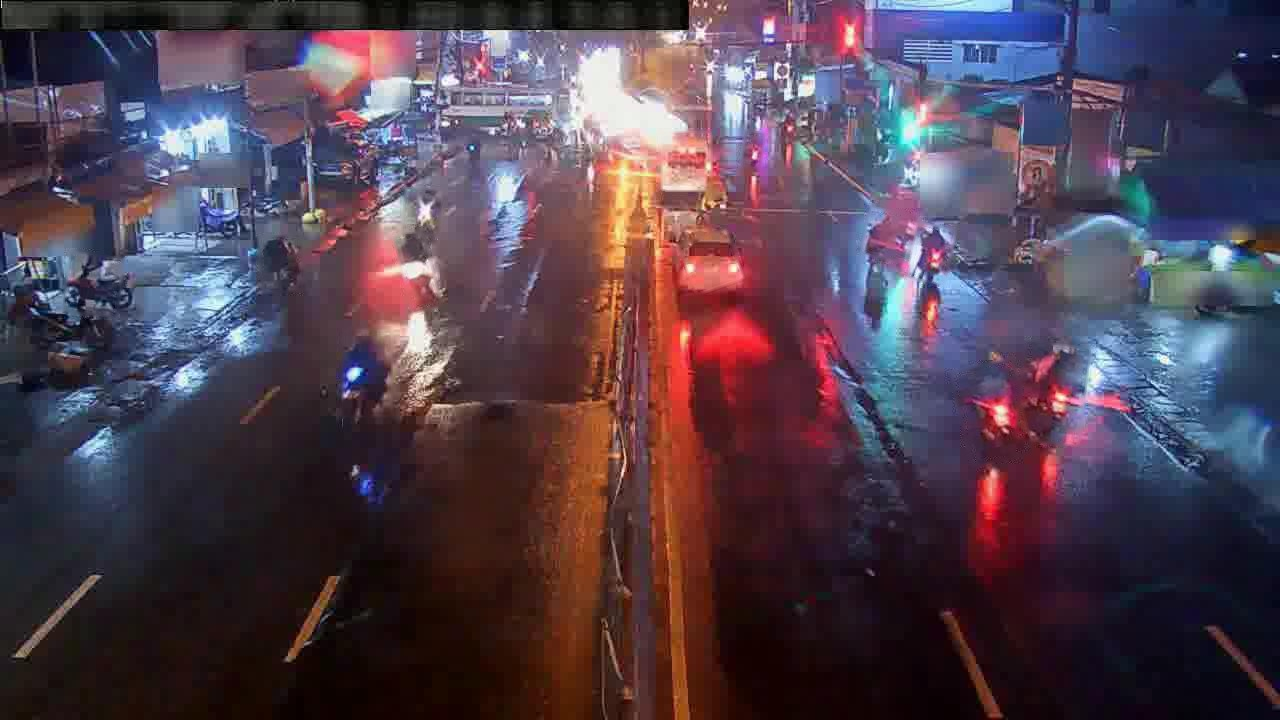Bus: (660, 133, 709, 195)
Car: (673, 224, 744, 299), (65, 259, 132, 309), (310, 226, 350, 256)
Motorcycle: (973, 394, 1033, 459)
Motorcyclist: (1020, 343, 1082, 439), (400, 232, 441, 308), (866, 214, 916, 259), (913, 226, 950, 283), (261, 237, 300, 289), (410, 188, 439, 237), (743, 137, 762, 171)
Traffic light: (339, 336, 388, 403)
